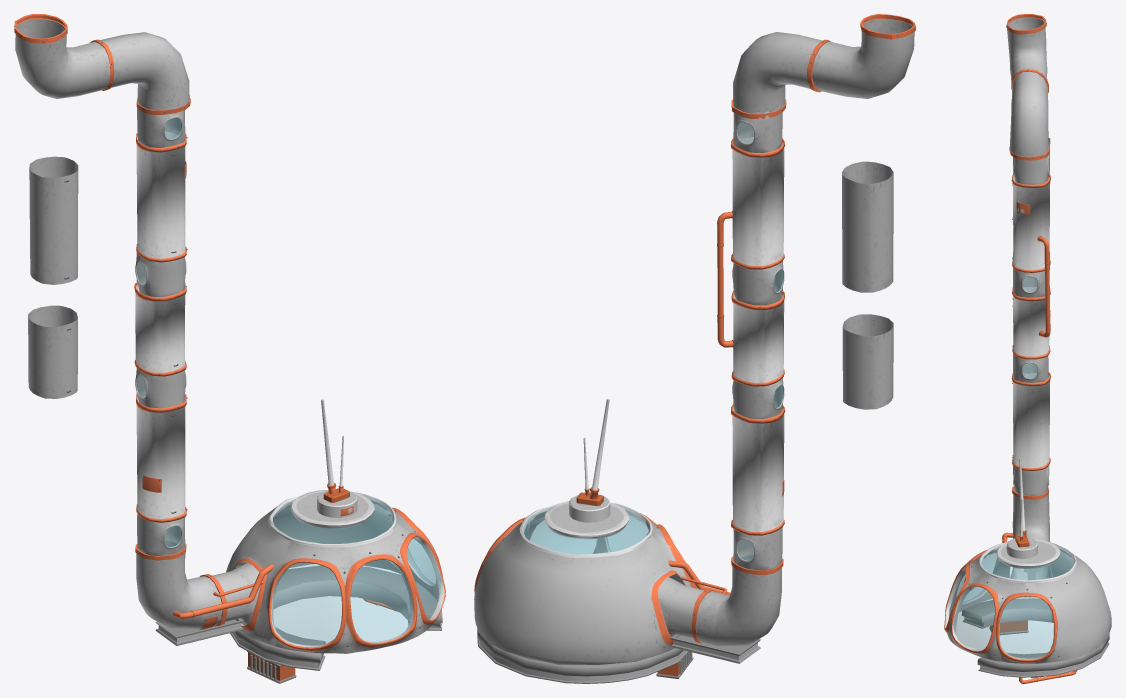
File: Station_Bayou.fbx
The picture shows the model from 3 angles, left to right: view 1: azimuth 30°, elevation 25°; view 2: azimuth 150°, elevation 25°; view 3: azimuth 270°, elevation 25°; orthographic projection. The views are drawn at different scales.
Visible parts, largest first — view 1: Station_Dome.009, Station_DomeWindows.011, Station_Dome_Plat.004, Station_Tunnel01.010, Station_Tunnel02.009, Station_Tunnel01.008, Station_Tunnel01.006, Station_Tunnel02.008, Station_Tunnel02.007, Station_Tunnel01.011, Station_Tunnel01.009, Station_TunWindow00.009 (+8 smaller); view 2: Station_Dome.009, Station_Tunnel01.010, Station_Tunnel02.009, Station_Tunnel01.008, Station_Tunnel01.006, Station_Tunnel02.007, Station_Tunnel02.008, Station_Tunnel01.011, Station_Tunnel01.009, Station_Dome_Plat.004, Station_DomeWindows.011, Station_TunWindow00.009 (+7 smaller); view 3: Station_Dome.009, Station_DomeWindows.011, Station_Dome_Plat.004, Station_Tunnel01.006, Station_Tunnel02.008, Station_Tunnel01.008, Station_Tunnel02.009, Station_Tunnel01.009, Station_Tunnel02.007, Station_TunWindow00.010, Station_TunWindow00.011, Station_TunWindow00.008 (+6 smaller).
Boxes of the visible parts, x1,y1,x2,y2 form: Station_Dome.009: [226, 490, 445, 653]; Station_DomeWindows.011: [272, 495, 440, 646]; Station_Dome_Plat.004: [230, 565, 442, 670]; Station_Tunnel01.010: [29, 156, 78, 284]; Station_Tunnel02.009: [14, 14, 114, 98]; Station_Tunnel01.008: [136, 131, 187, 262]; Station_Tunnel01.006: [136, 394, 187, 522]; Station_Tunnel02.008: [90, 32, 190, 115]; Station_Tunnel02.007: [135, 536, 227, 629]; Station_Tunnel01.011: [28, 305, 77, 398]; Station_Tunnel01.009: [134, 282, 186, 376]; Station_TunWindow00.009: [135, 252, 186, 296]; Station_Dome.009: [474, 501, 697, 664]; Station_Tunnel01.010: [842, 161, 893, 292]; Station_Tunnel02.009: [807, 14, 915, 98]; Station_Tunnel01.008: [731, 137, 785, 269]; Station_Tunnel01.006: [731, 404, 785, 535]; Station_Tunnel02.007: [691, 550, 783, 646]; Station_Tunnel02.008: [731, 32, 829, 118]; Station_Tunnel01.011: [842, 314, 893, 409]; Station_Tunnel01.009: [731, 290, 784, 386]; Station_Dome_Plat.004: [477, 628, 688, 683]; Station_DomeWindows.011: [523, 507, 648, 554]; Station_TunWindow00.009: [732, 261, 784, 305]; Station_Dome.009: [944, 539, 1111, 663]; Station_DomeWindows.011: [949, 547, 1073, 658]; Station_Dome_Plat.004: [962, 598, 1109, 677]; Station_Tunnel01.006: [1011, 372, 1050, 470]; Station_Tunnel02.008: [1009, 69, 1049, 160]; Station_Tunnel01.008: [1011, 174, 1050, 272]; Station_Tunnel02.009: [1006, 14, 1048, 89]; Station_Tunnel01.009: [1012, 286, 1050, 359]; Station_Tunnel02.007: [1012, 486, 1049, 571]; Station_TunWindow00.010: [1013, 155, 1049, 184]; Station_TunWindow00.011: [1013, 349, 1048, 382]; Station_TunWindow00.008: [1013, 465, 1049, 495].
Size of the model in its own units: 23.57 by 37.86 by 10.88.
